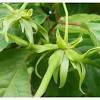ylang-ylang: (46, 32, 82, 83), (4, 1, 32, 30)
